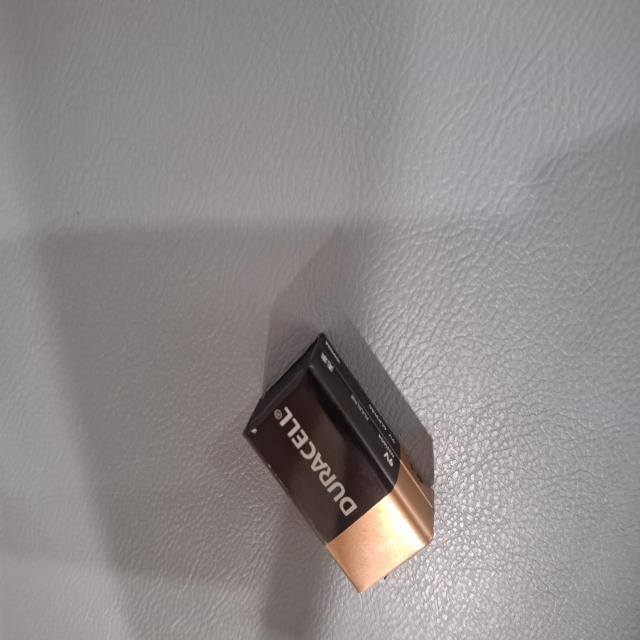9V: (204, 49, 398, 306)
